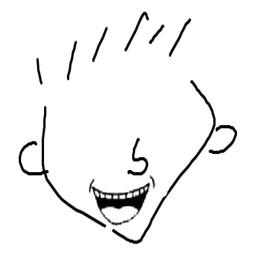ear: (200, 122, 240, 158), (12, 140, 45, 182)
nose: (121, 133, 151, 177)
open_mouth: (93, 177, 152, 227)
